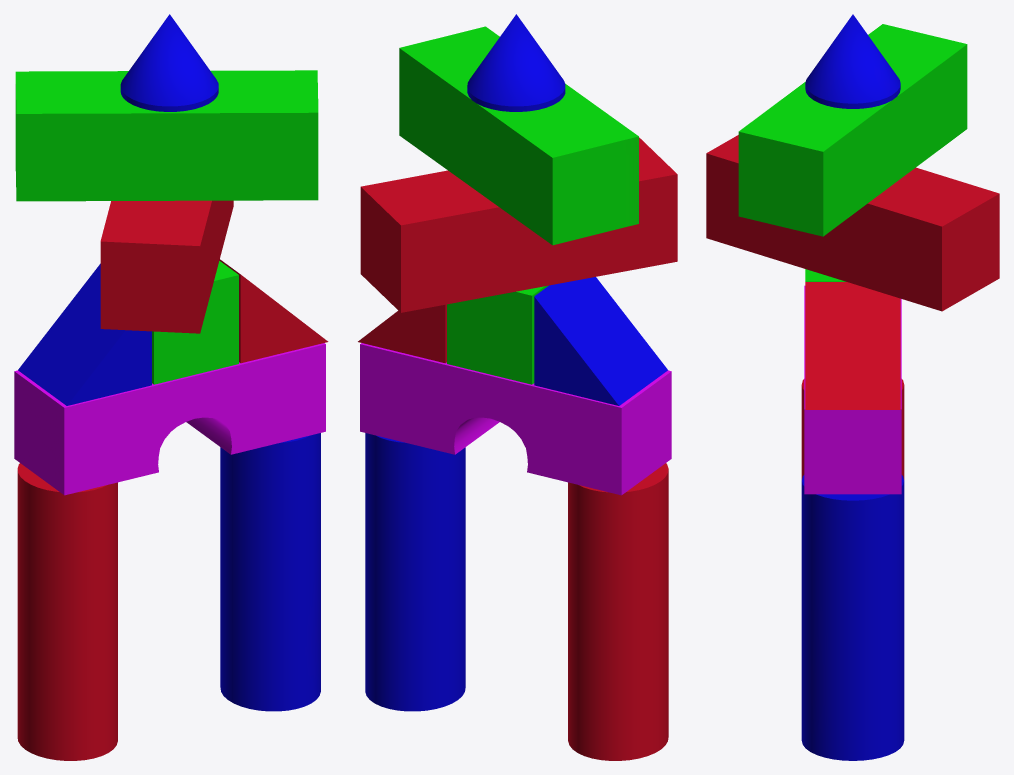
The model's file is Block Tower.fbx.
The picture shows the model from 3 angles, left to right: view 1: azimuth 30°, elevation 25°; view 2: azimuth 150°, elevation 25°; view 3: azimuth 270°, elevation 25°; orthographic projection. The views are drawn at different scales.
Parts seen in each view (by area): view 1: Block Tower; view 2: Block Tower; view 3: Block Tower.
Boxes of the visible parts, bbox=[...] form: Block Tower: bbox=[14, 14, 328, 760]; Block Tower: bbox=[358, 14, 677, 760]; Block Tower: bbox=[706, 14, 999, 760].
Bounding box in the file's own units: 42.28 × 98.09 × 38.43.
